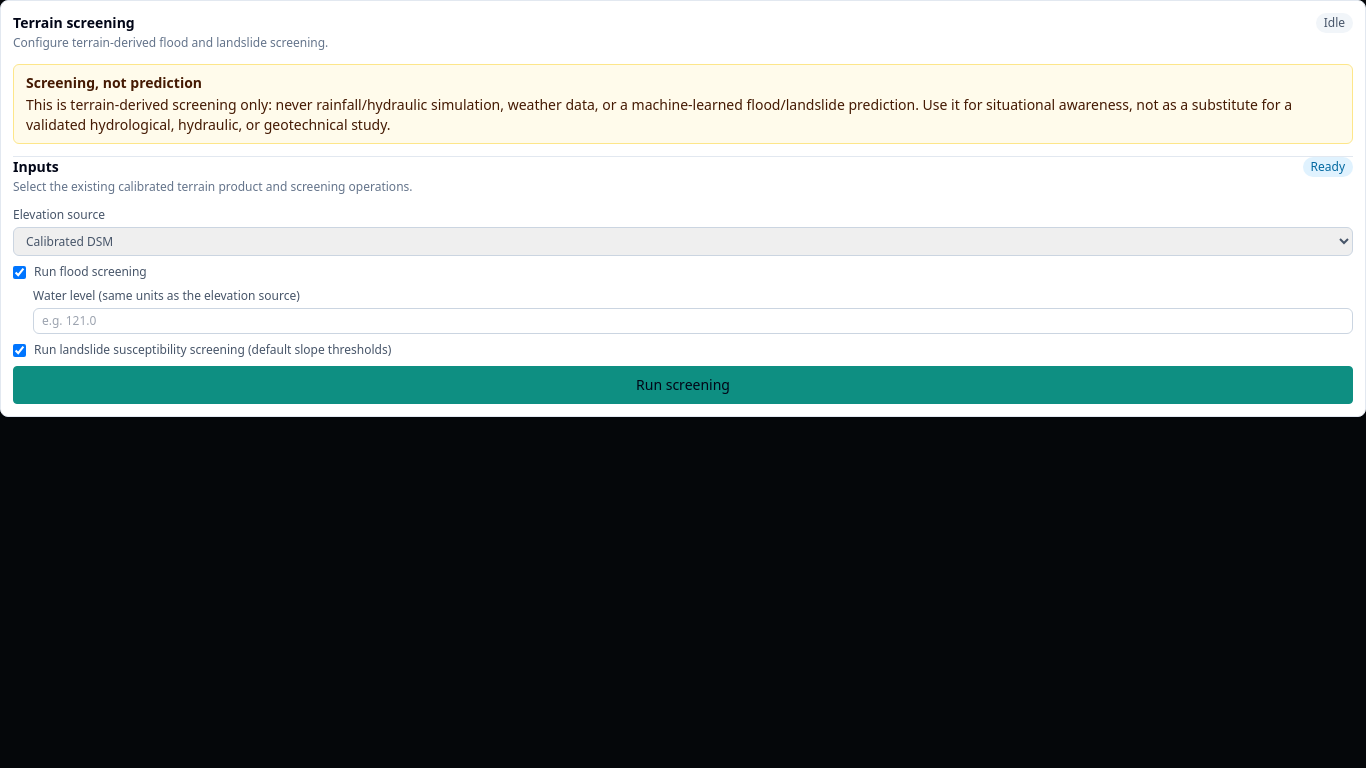
it: disaster screening state › organizes completed output into summary, details, and actions
Type "121" into the number field labelled "Water level (same units as the elevation source)".
click(693, 321); type("121")  # box [33, 308, 1353, 334]
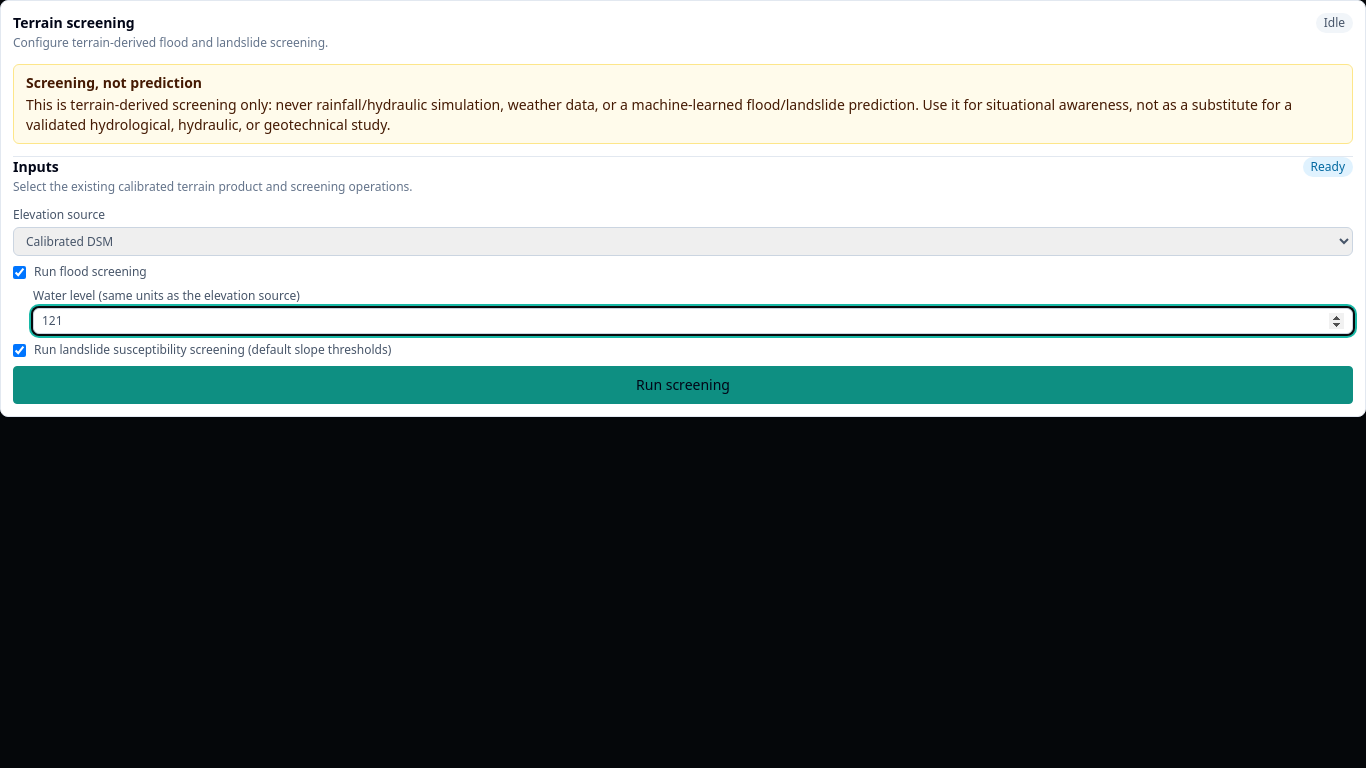
Click the button "Run screening".
click(683, 385)  # box [13, 366, 1353, 404]
(page scrolled)
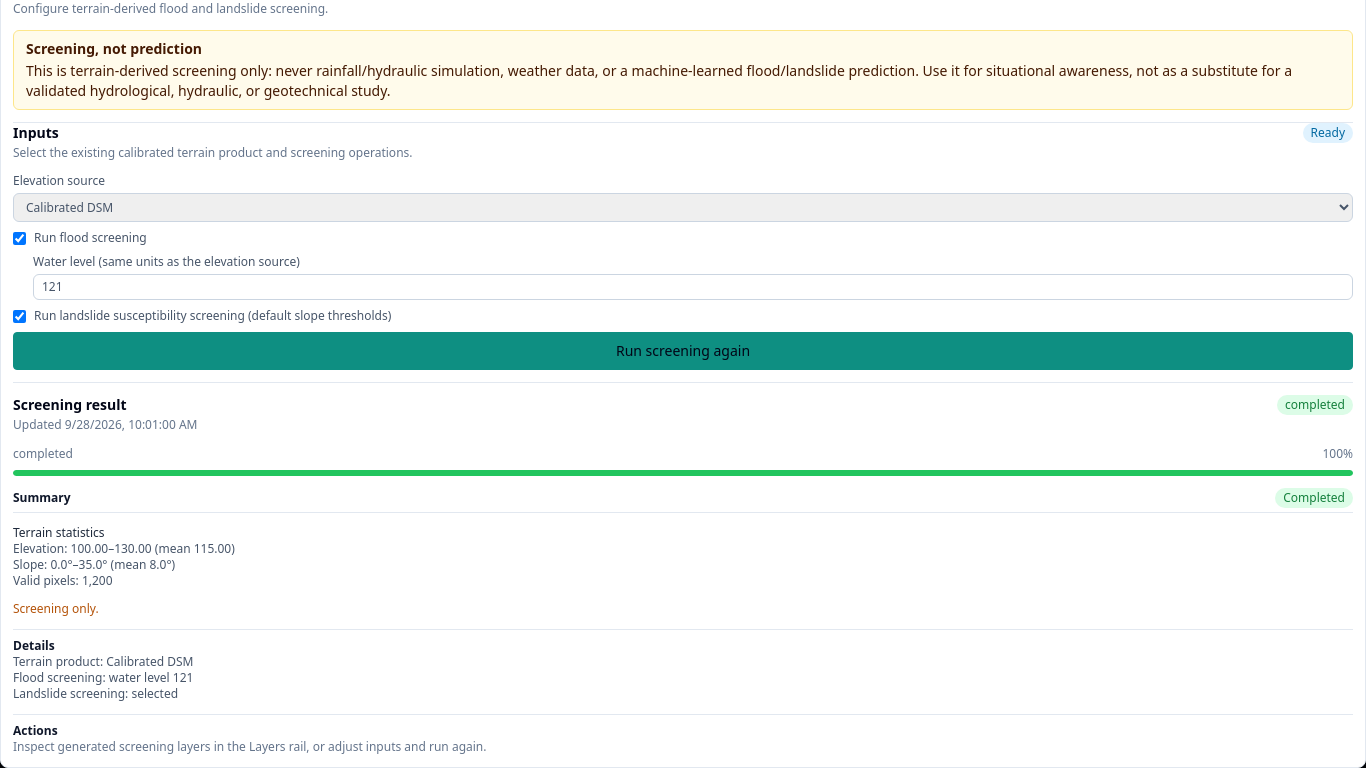
Expected: the heading "Screening result" is shown, [13, 395, 127, 414]
Expected: the text "Summary" is shown, [13, 490, 71, 506]
Expected: the text "Details" is shown, [13, 637, 55, 654]
